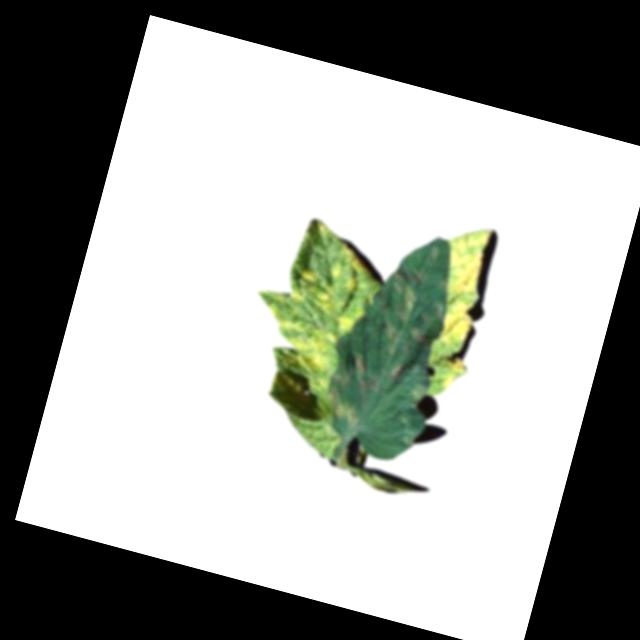Leaf_Mold: (236, 206, 396, 400), (321, 227, 447, 438), (412, 219, 504, 394)
